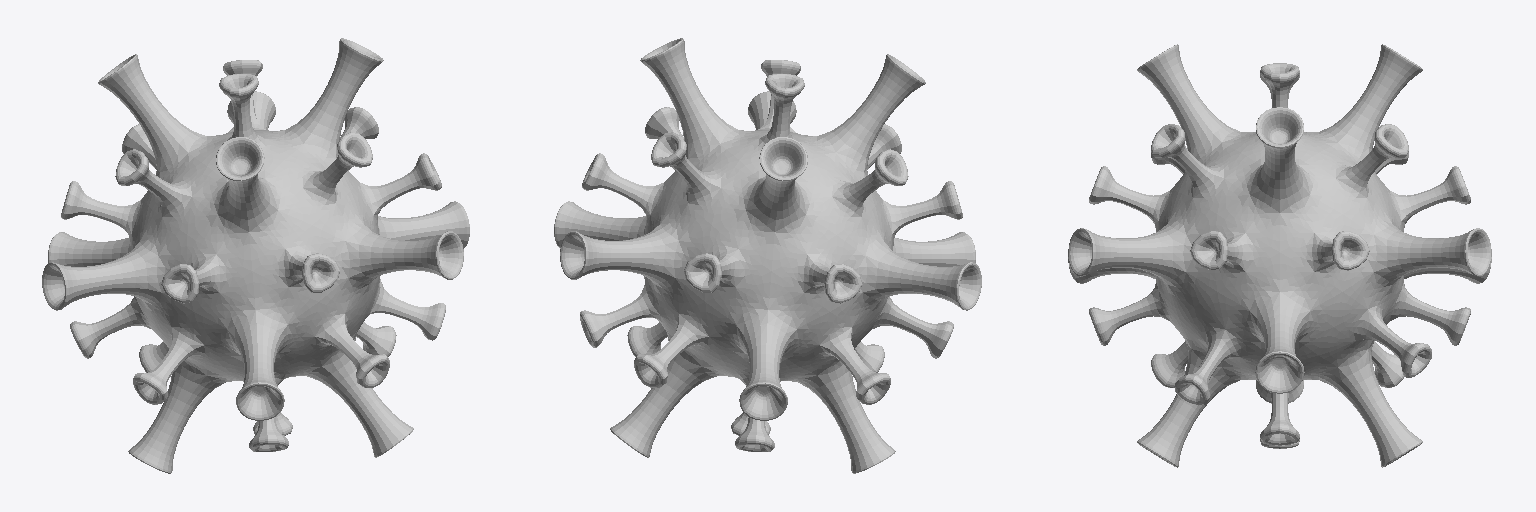
The model's file is virus.obj.
The picture shows the model from 3 angles: view 1: azimuth 30°, elevation 25°; view 2: azimuth 150°, elevation 25°; view 3: azimuth 270°, elevation 25°; orthographic projection.
Visible parts, largest first — view 1: Icosphere_Icosphere.001; view 2: Icosphere_Icosphere.001; view 3: Icosphere_Icosphere.001.
Part boxes in pixels (x1,y1,x2,y2): Icosphere_Icosphere.001: (42, 38, 469, 473); Icosphere_Icosphere.001: (554, 38, 981, 473); Icosphere_Icosphere.001: (1068, 44, 1491, 467).
Bounding box in the file's own units: 2.15 × 1.93 × 1.93.